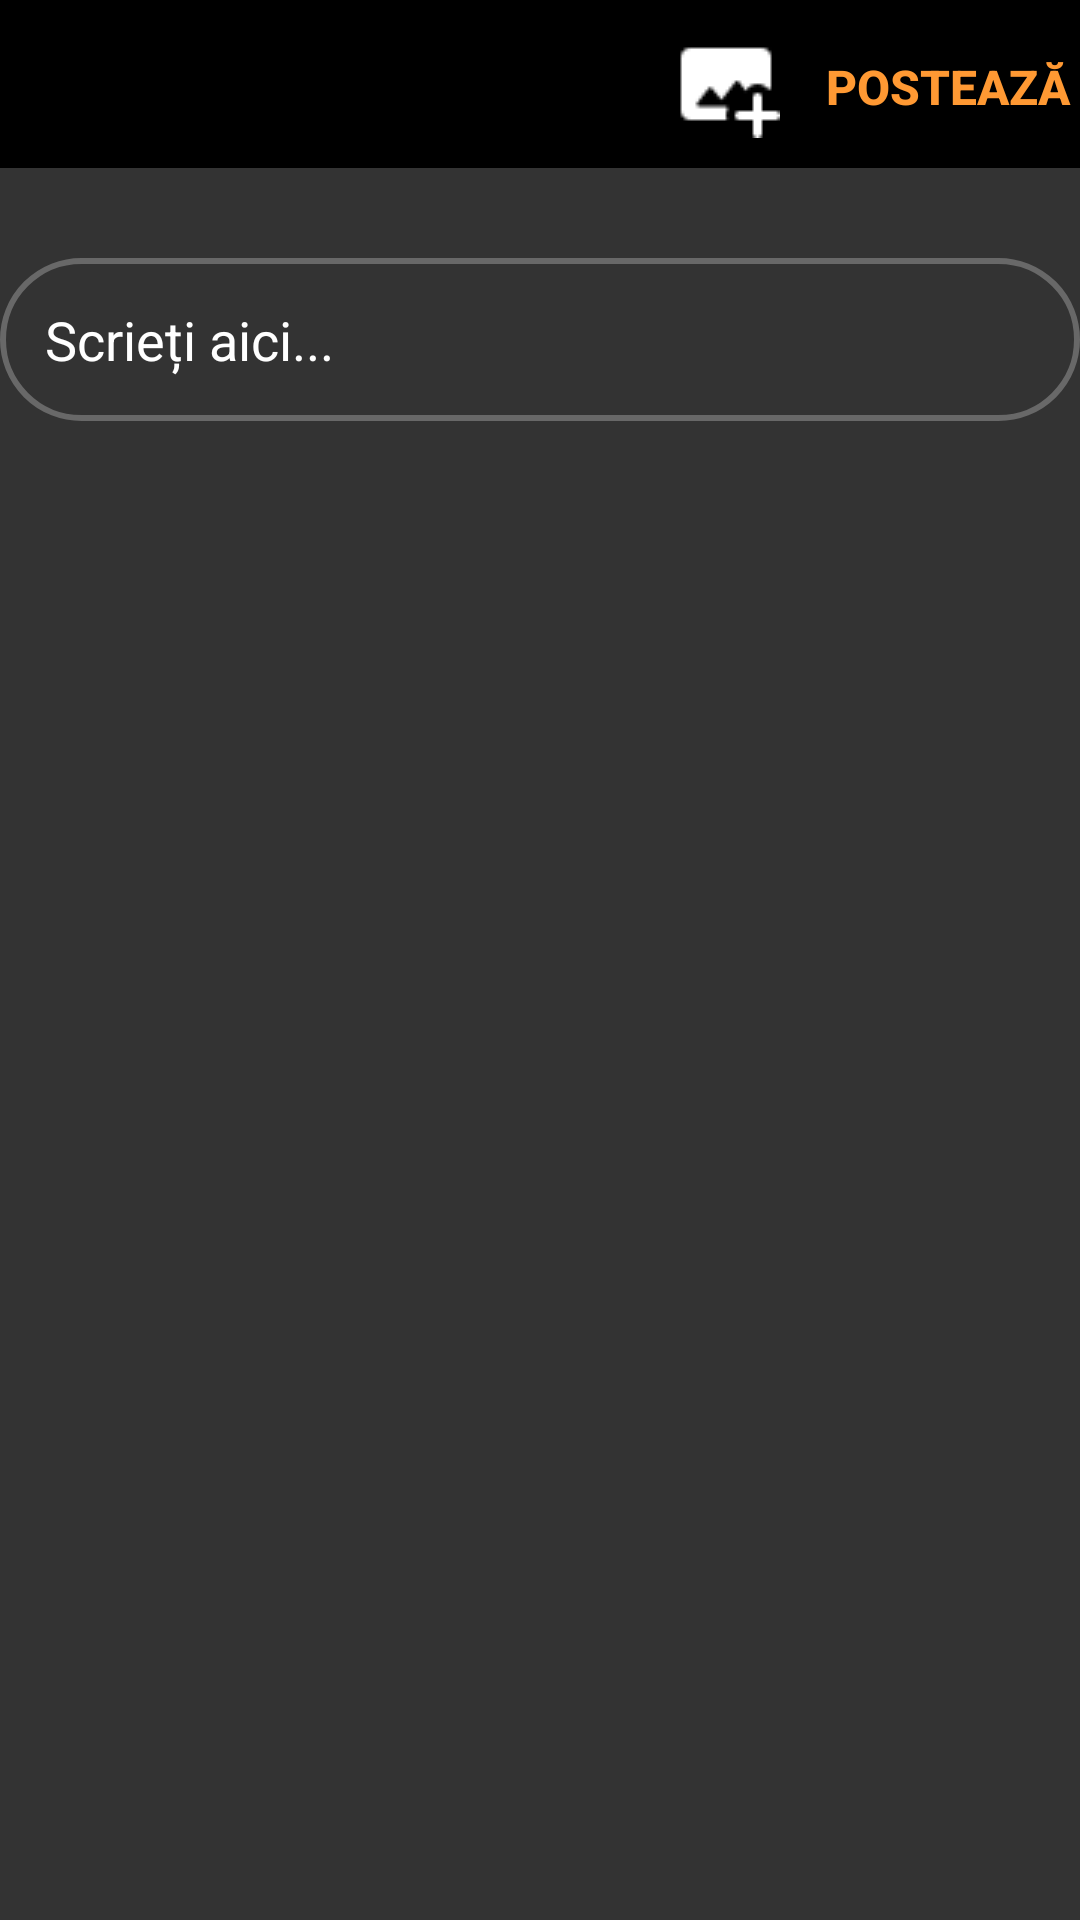

Where icons sit on this 1080w x 1920h app screen, as (x1, y1, x2, y2):
add: (680, 47, 780, 138)
